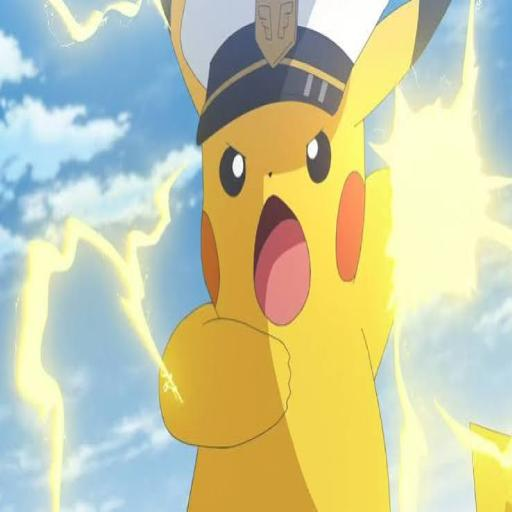Pikachu: (158, 0, 451, 512)
